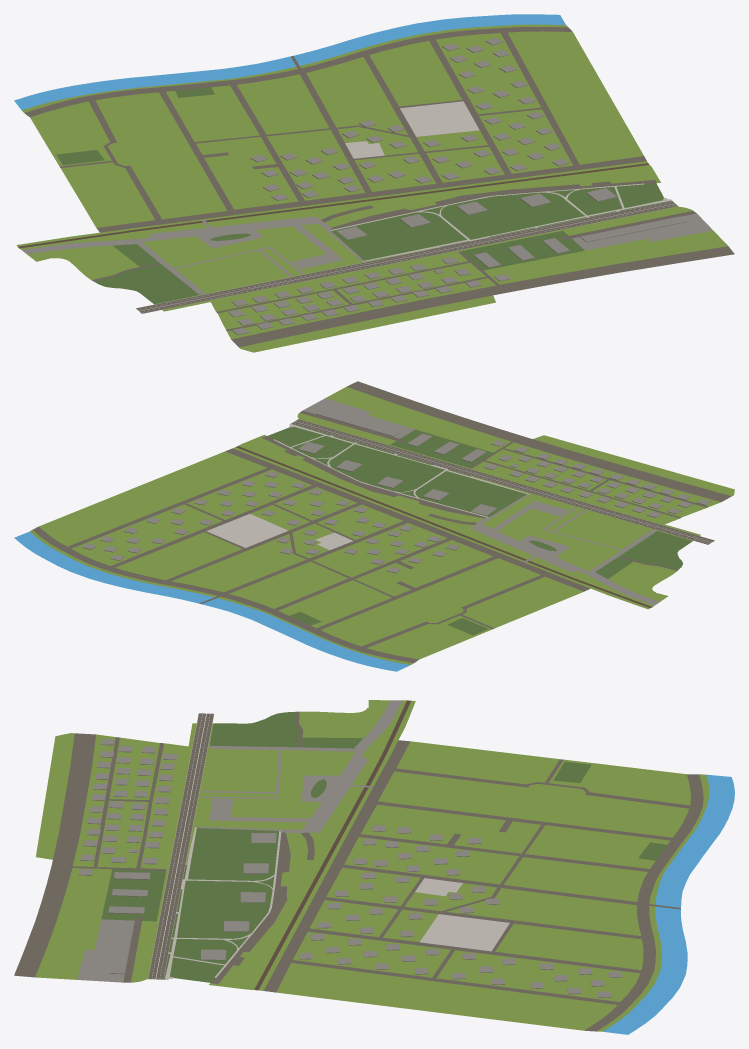
The model's file is terrain-Batov.fbx.
The picture shows the model from 3 angles, top to bottom: view 1: azimuth 30°, elevation 25°; view 2: azimuth 150°, elevation 25°; view 3: azimuth 270°, elevation 25°; orthographic projection. The views are drawn at different scales.
Parts seen in each view (by area): view 1: terrain-Batov, terrain-Batov.001, road-tile-big_01; view 2: terrain-Batov, terrain-Batov.001, road-tile-big_01; view 3: terrain-Batov, terrain-Batov.001, road-tile-big_01.
Part boxes in pixels (bbox=[...]): terrain-Batov: bbox=[14, 14, 734, 352]; terrain-Batov.001: bbox=[228, 38, 686, 334]; road-tile-big_01: bbox=[136, 200, 677, 313]; terrain-Batov: bbox=[14, 381, 734, 671]; terrain-Batov.001: bbox=[82, 409, 711, 573]; road-tile-big_01: bbox=[292, 419, 714, 544]; terrain-Batov: bbox=[14, 700, 734, 1034]; terrain-Batov.001: bbox=[78, 738, 622, 997]; road-tile-big_01: bbox=[148, 713, 214, 979].
Bounding box in the file's own units: 65533 × 100 × 59628.
